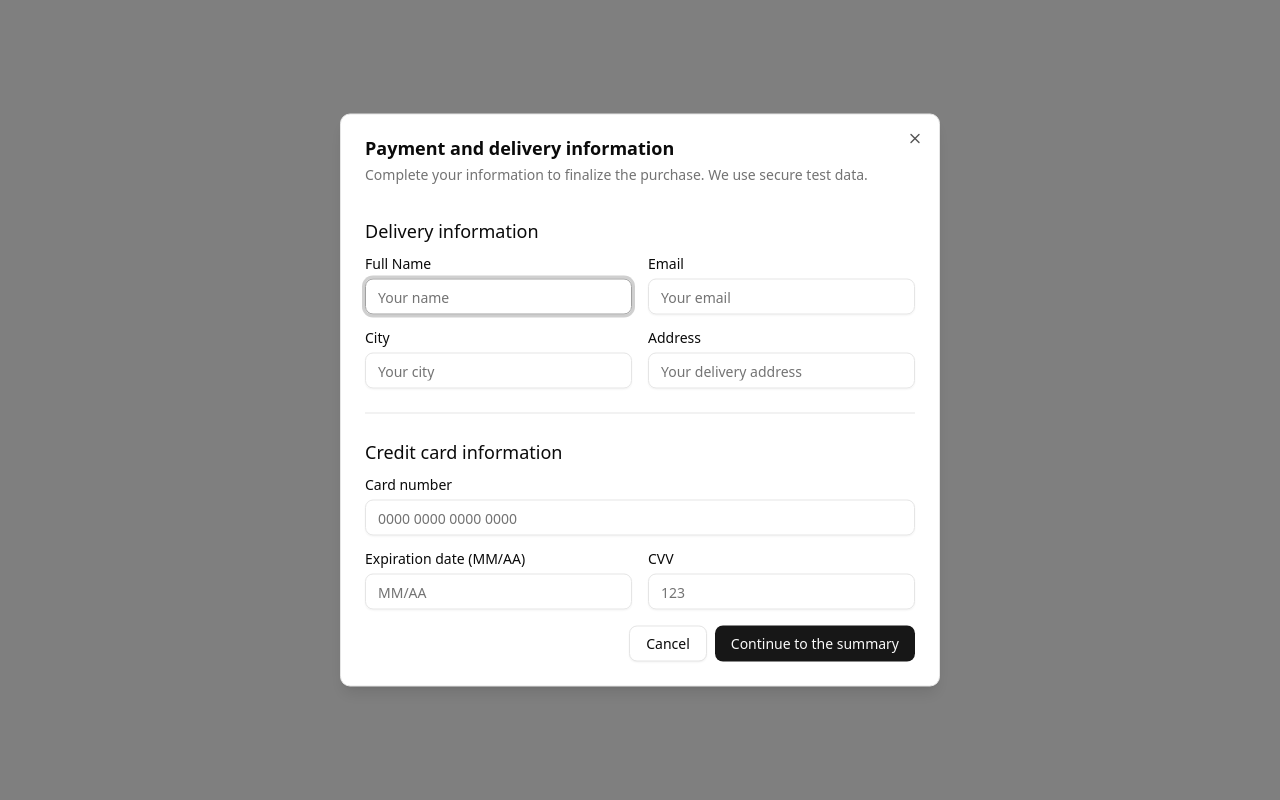
Test: CheckoutModal › Validación de formulario › debería mostrar errores cuando se envía el formulario vacío
The image size is (1280, 800).
Click the button "Continue to the summary".
click(815, 644)  # box 715,626 -> 915,662
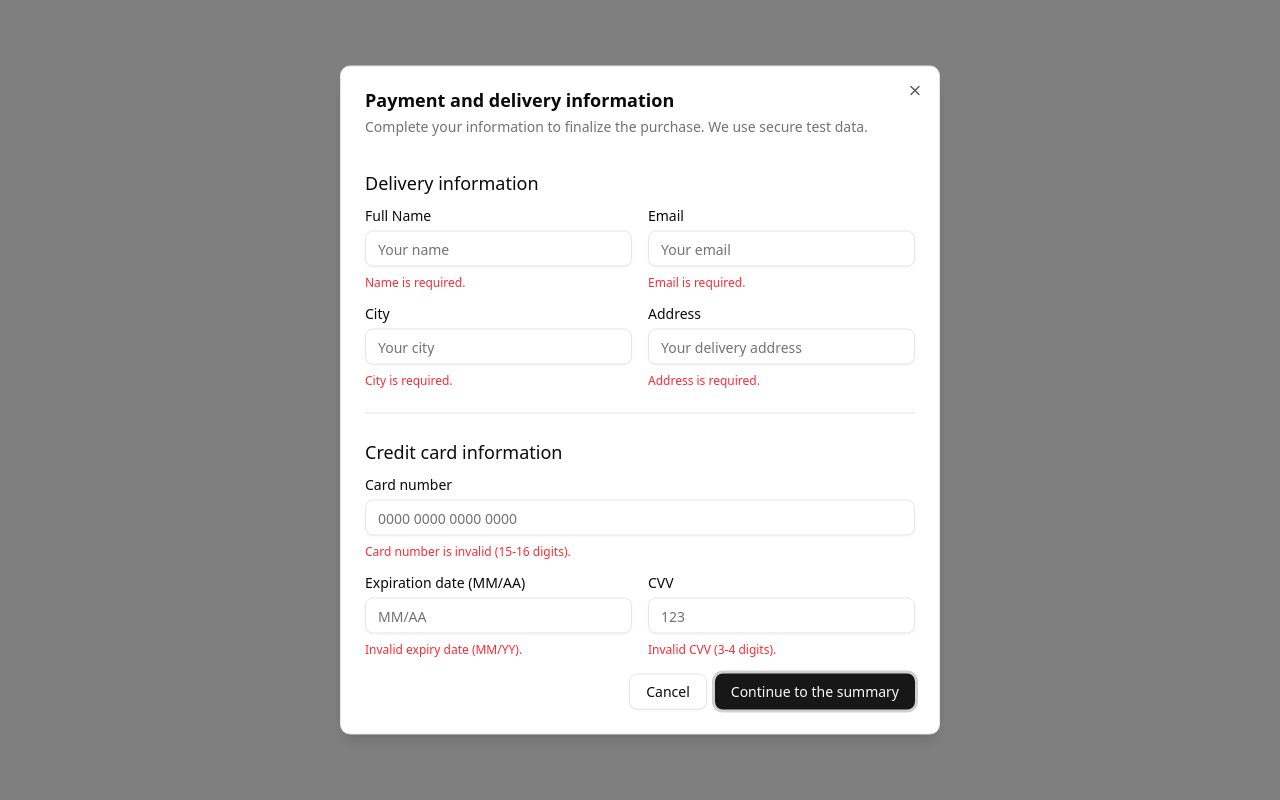
expect the text "Name is required." is shown: met, box 365,274 -> 465,290
expect the text "Email is required." is shown: met, box 648,274 -> 745,290
expect the text "Address is required." is shown: met, box 648,372 -> 760,388
